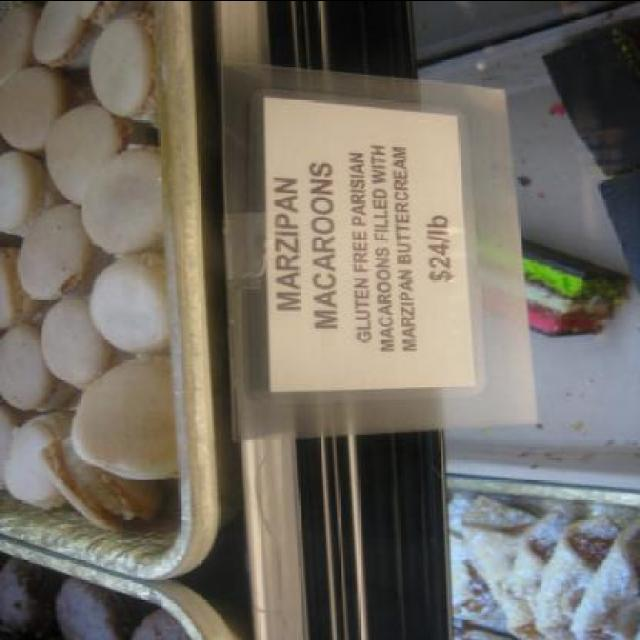Macaron: (1, 2, 257, 550)
